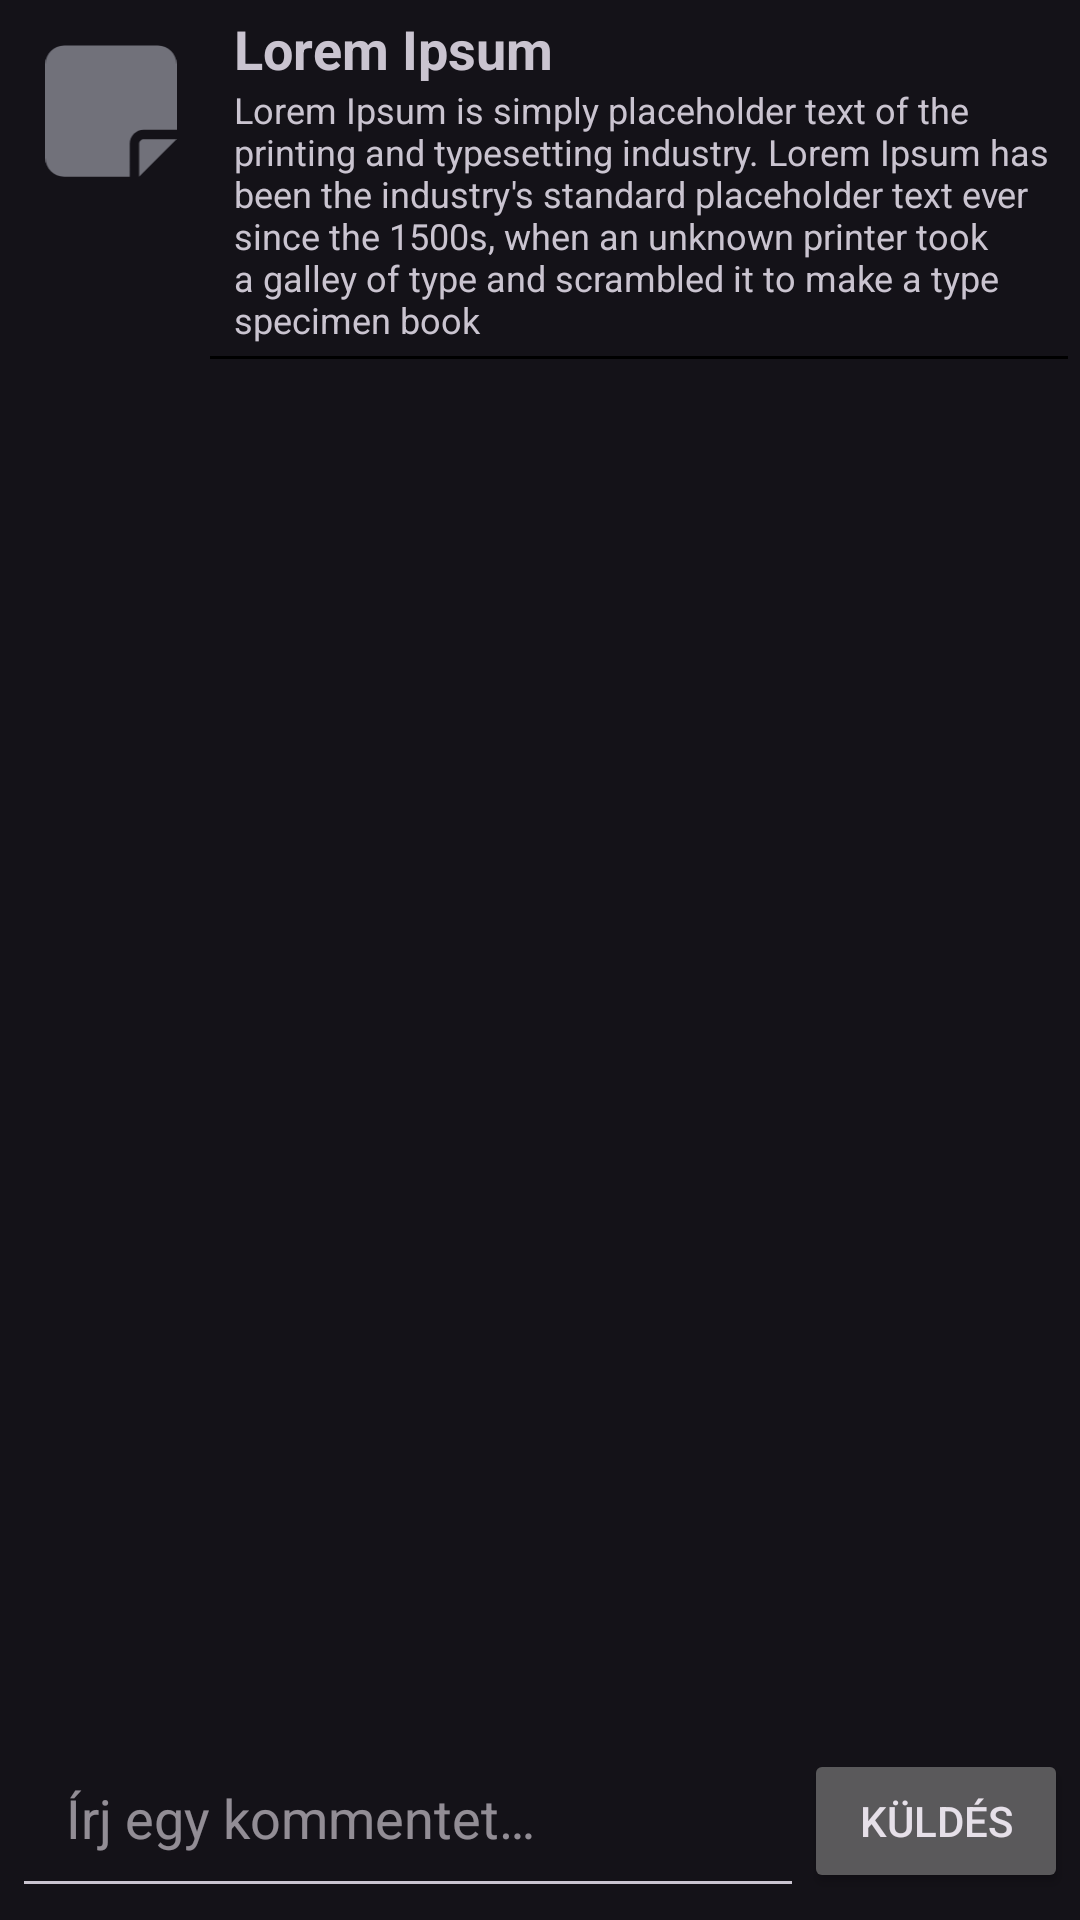

Where icons sit on this 1080w x 1920h app screen, as (x1, y1, x2, y2):
thread icon (note sticky): (45, 45, 177, 177)
